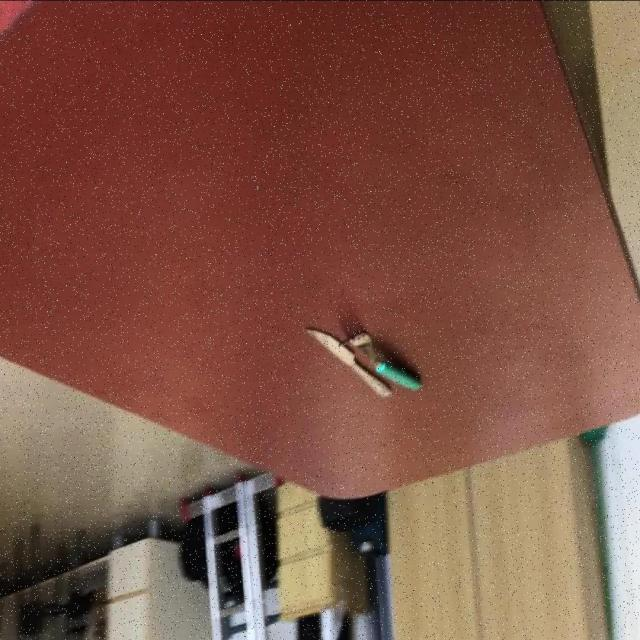Knife: (304, 324, 393, 397)
